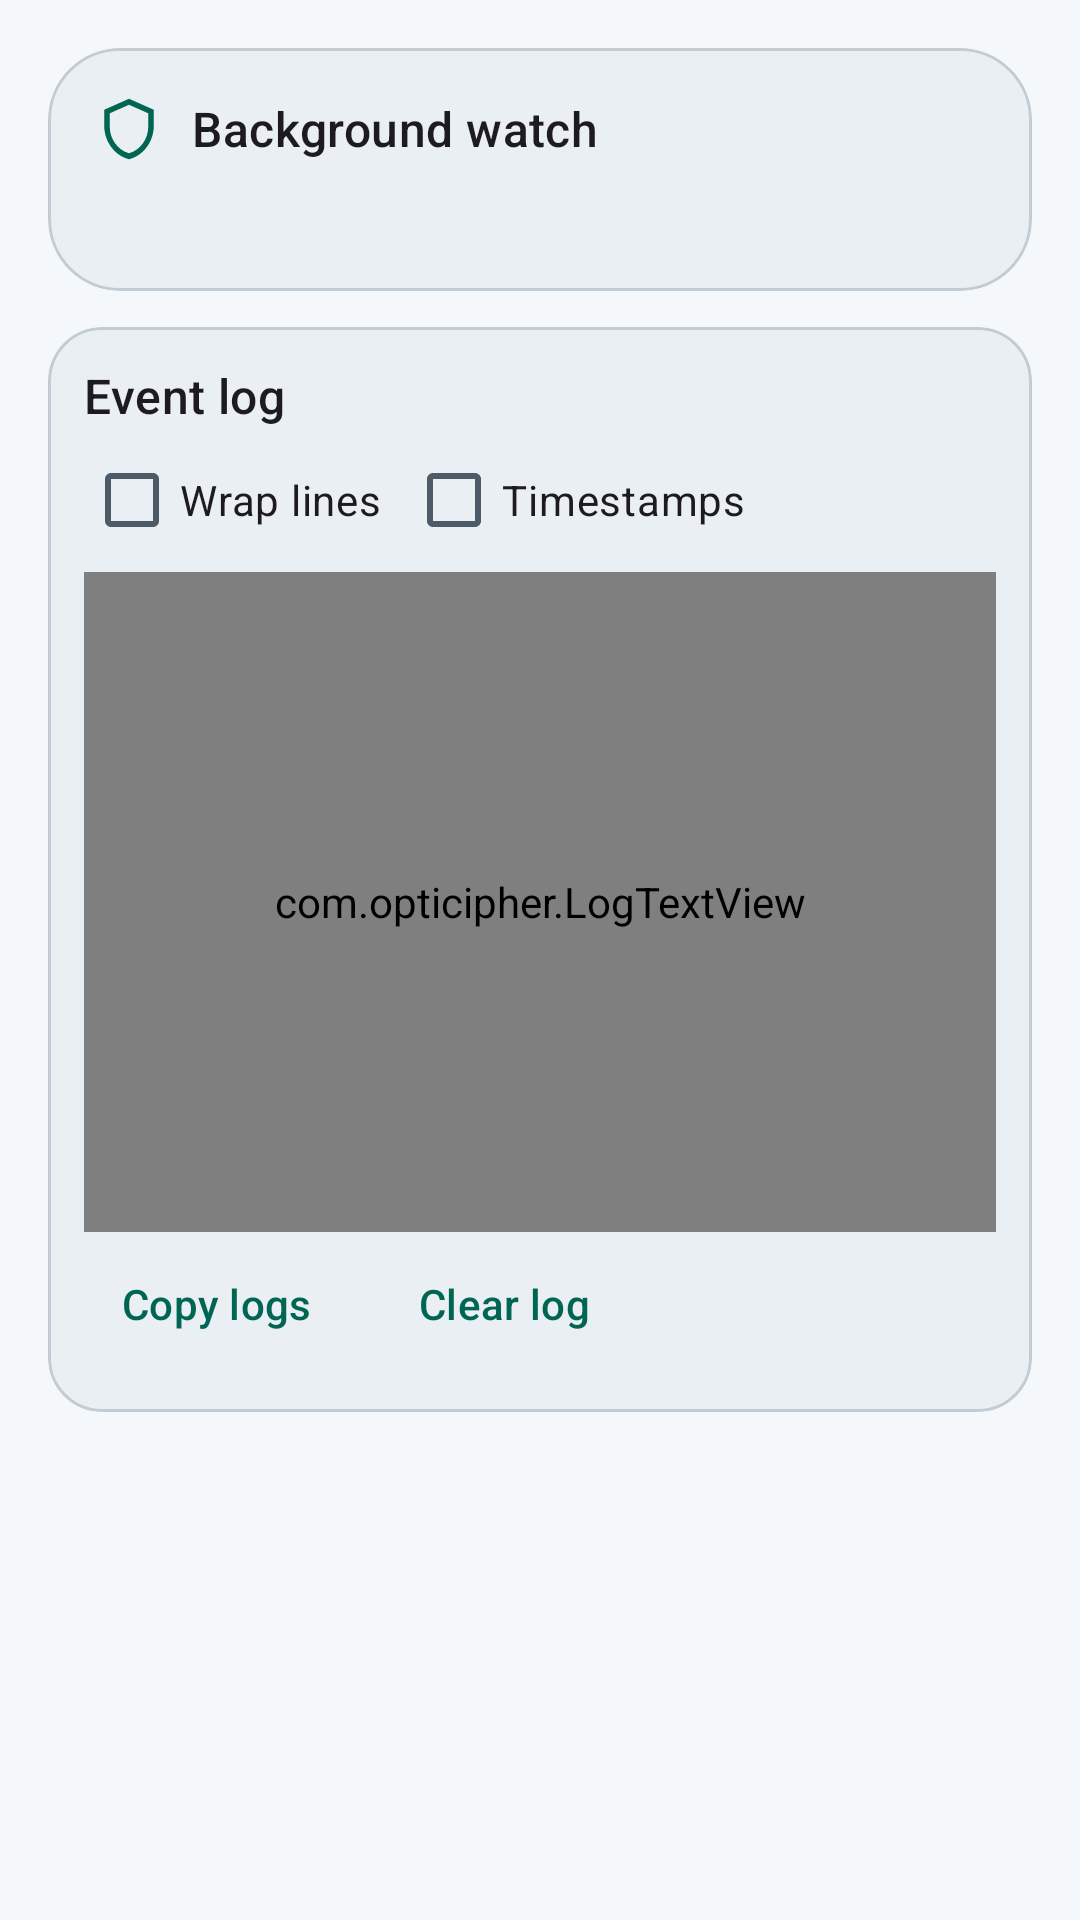

Icons on this 1080px x 1920px Android screen, each with the point to tap as point (x, y):
shield: point (129, 129)
